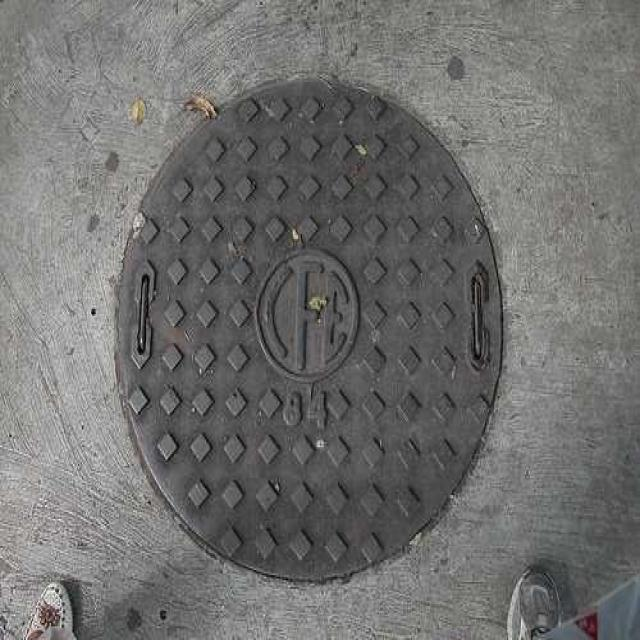manhole: (118, 80, 502, 581)
